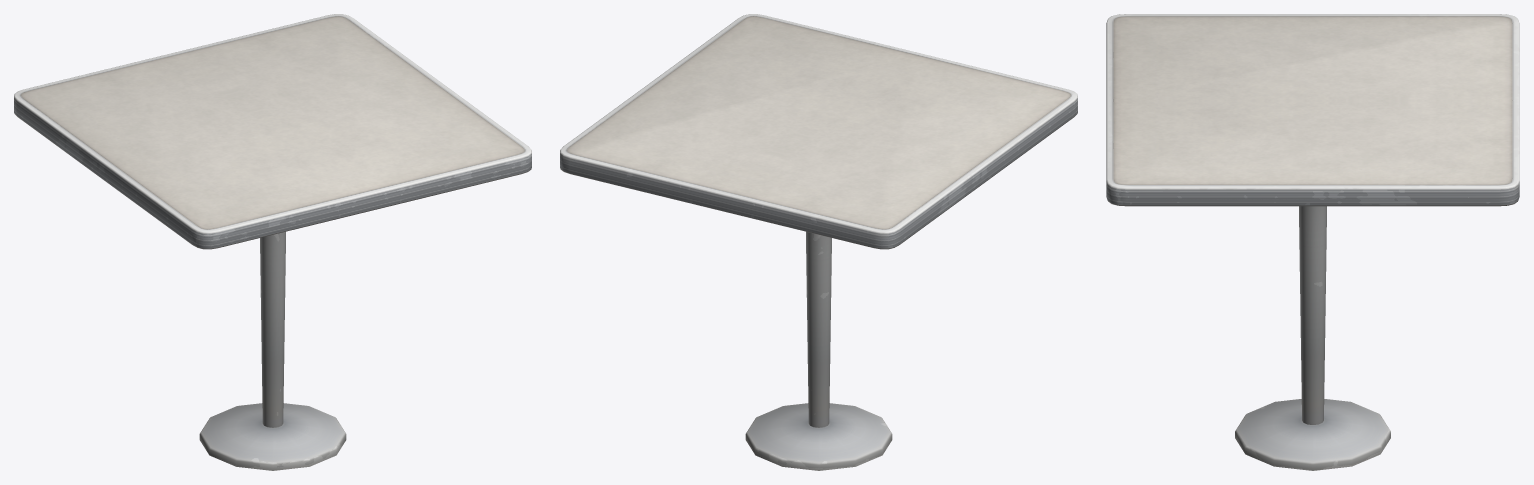
The model's file is CafeTable01_2.FBX.
3 views of the same model, side by side, from view 1: azimuth 30°, elevation 25°; view 2: azimuth 150°, elevation 25°; view 3: azimuth 270°, elevation 25° (orthographic). The views are drawn at different scales.
Parts seen in each view (by area): view 1: CafeTable01_2; view 2: CafeTable01_2; view 3: CafeTable01_2.
Part boxes in pixels (bbox=[...]): CafeTable01_2: bbox=[14, 14, 531, 470]; CafeTable01_2: bbox=[560, 14, 1077, 470]; CafeTable01_2: bbox=[1106, 14, 1519, 470].
Size of what is drawn, in the model's own units: 0.9997 by 0.9 by 1.
